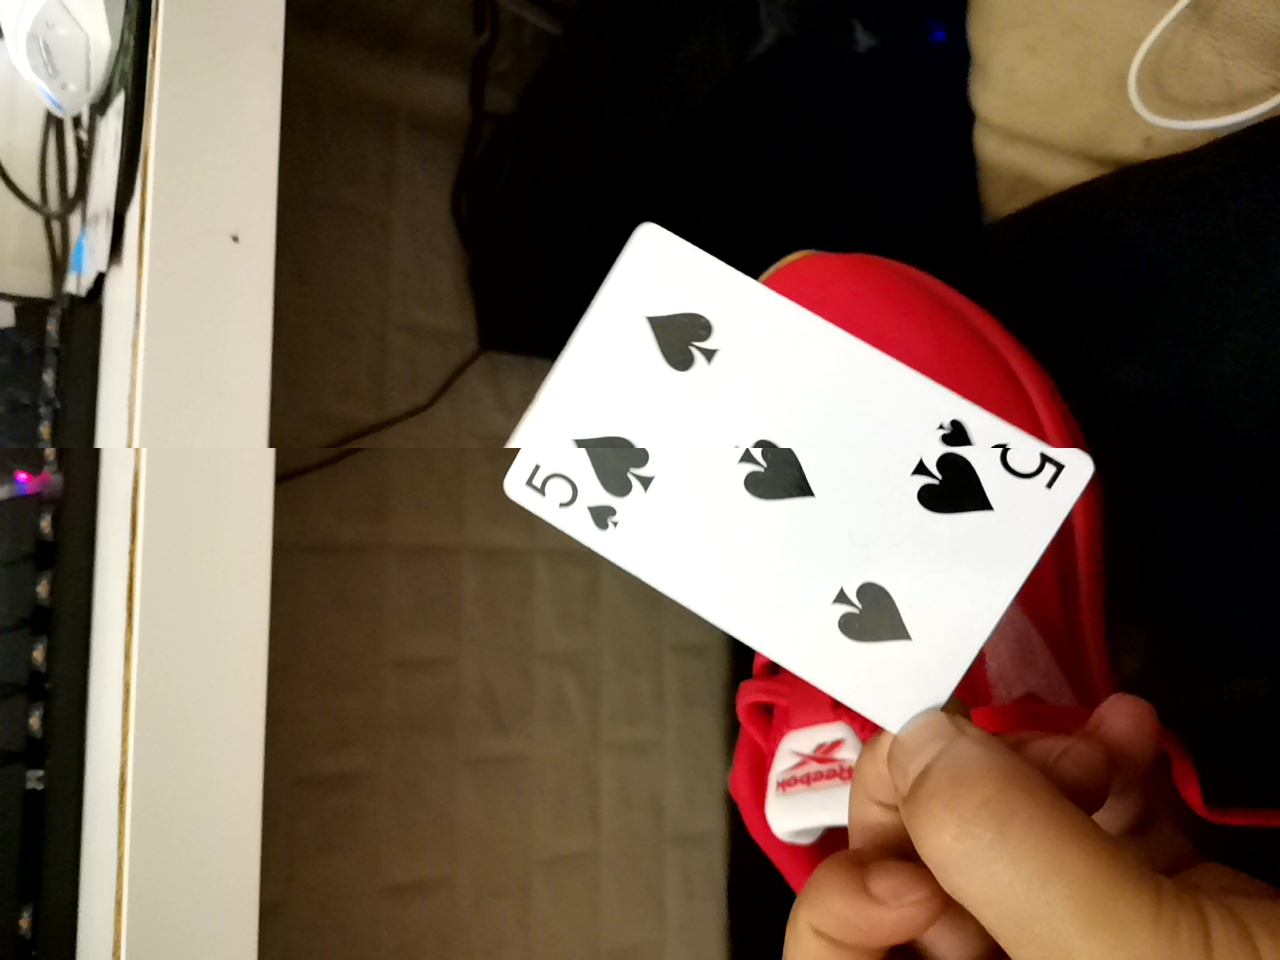ht 5: (444, 214, 1045, 751)
